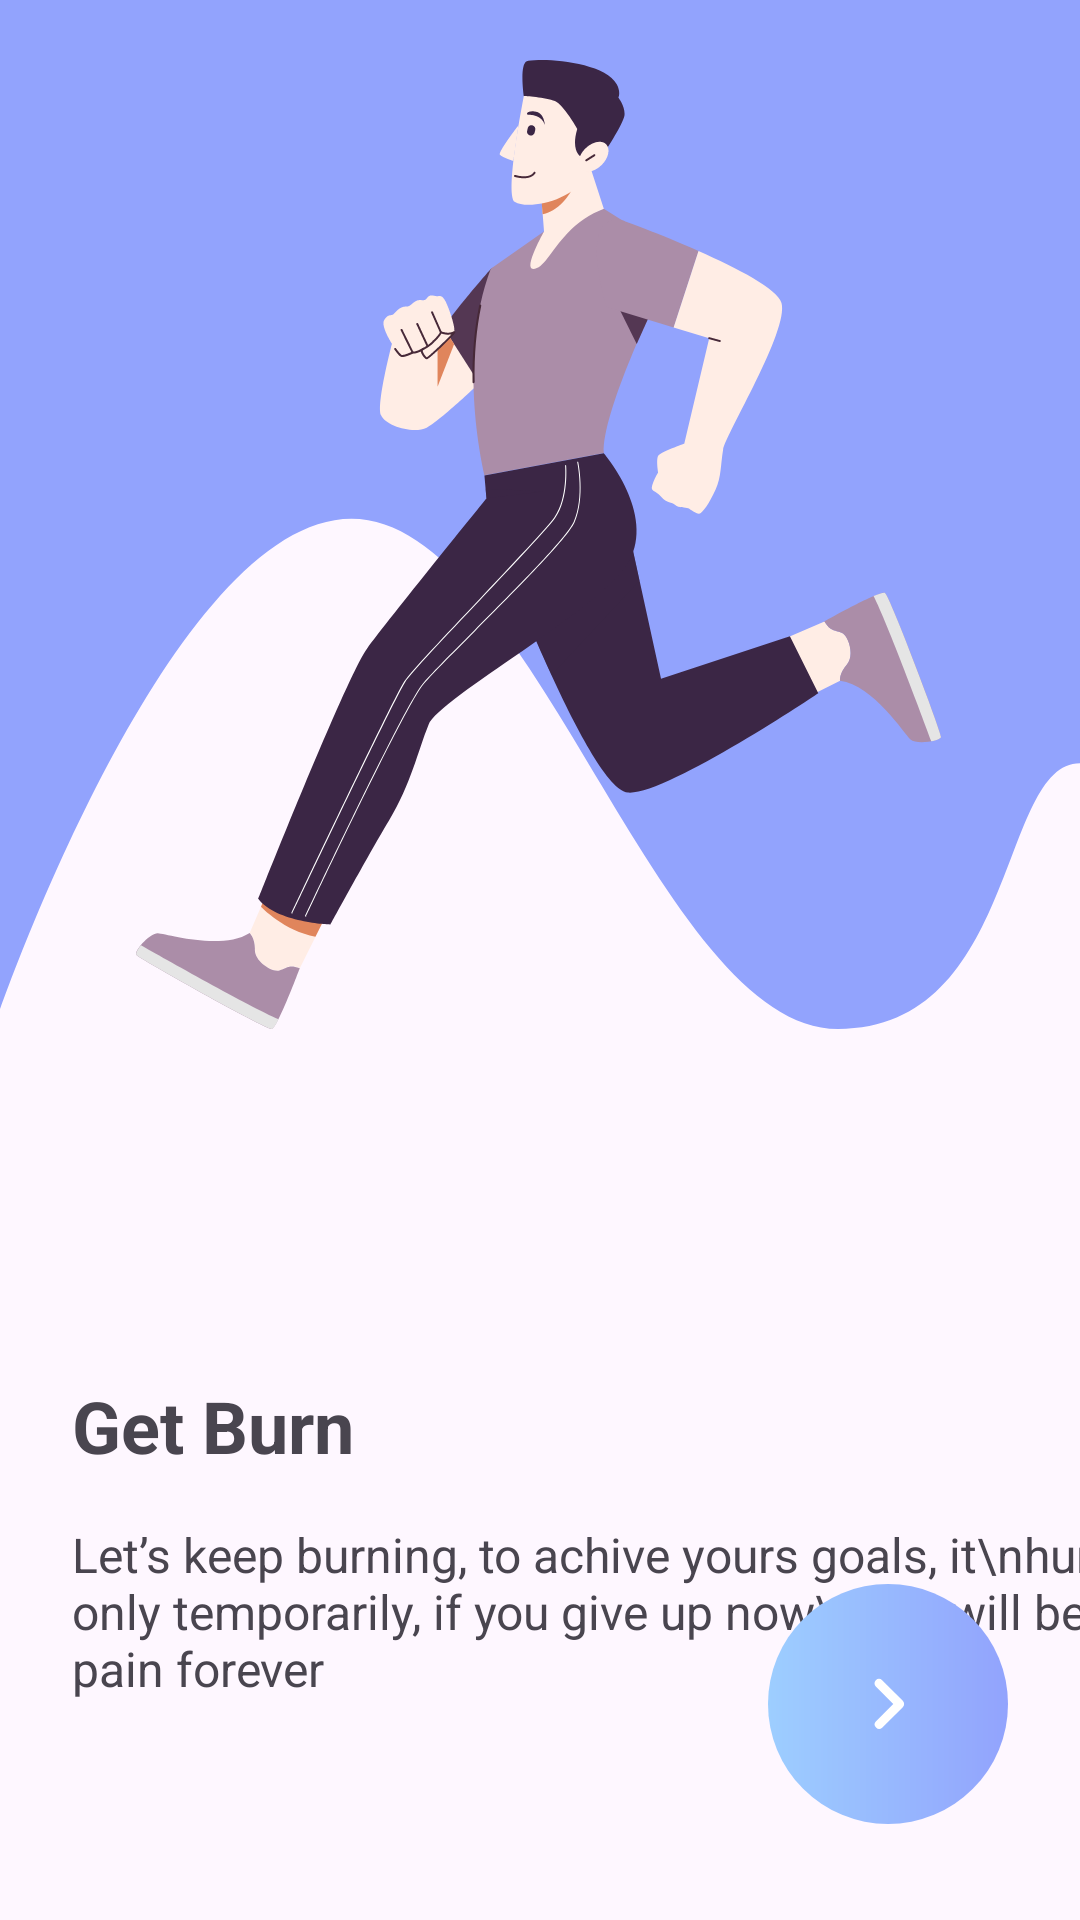

Screen size 1080*1920. Icon name, then its center in pixels as point (x, y):
right arrow: point (888, 1704)
